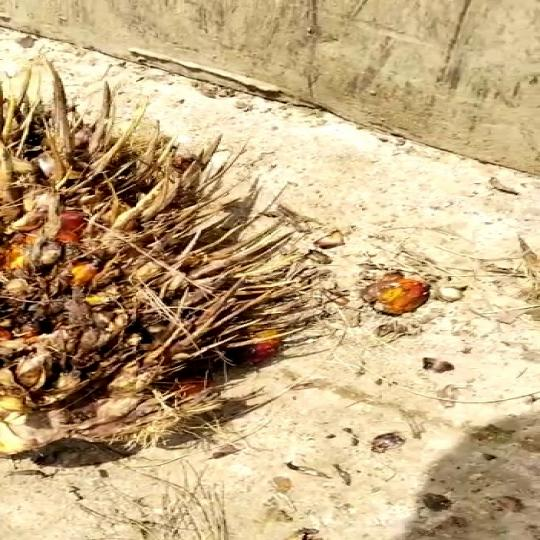terlalu masak: (0, 59, 361, 485)
